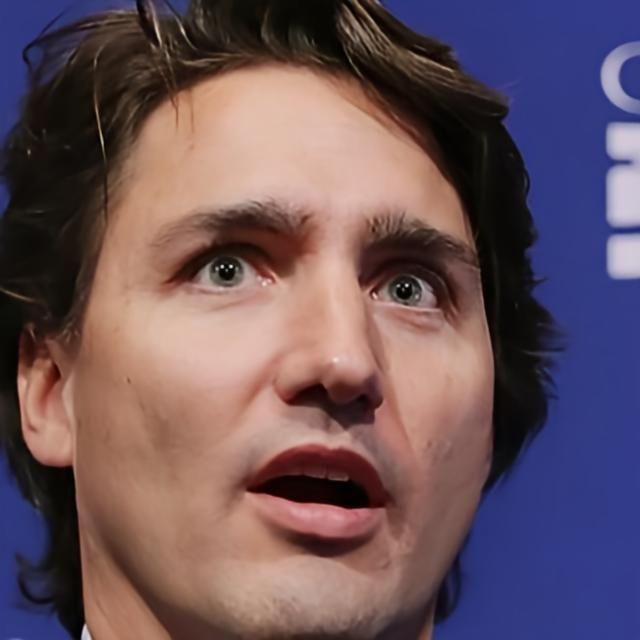fear: (82, 54, 496, 640)
